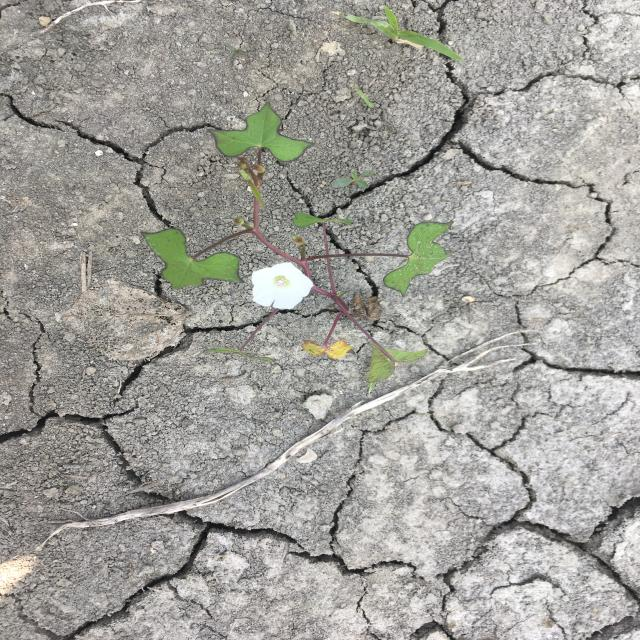MorningGlory: (138, 100, 456, 397)
